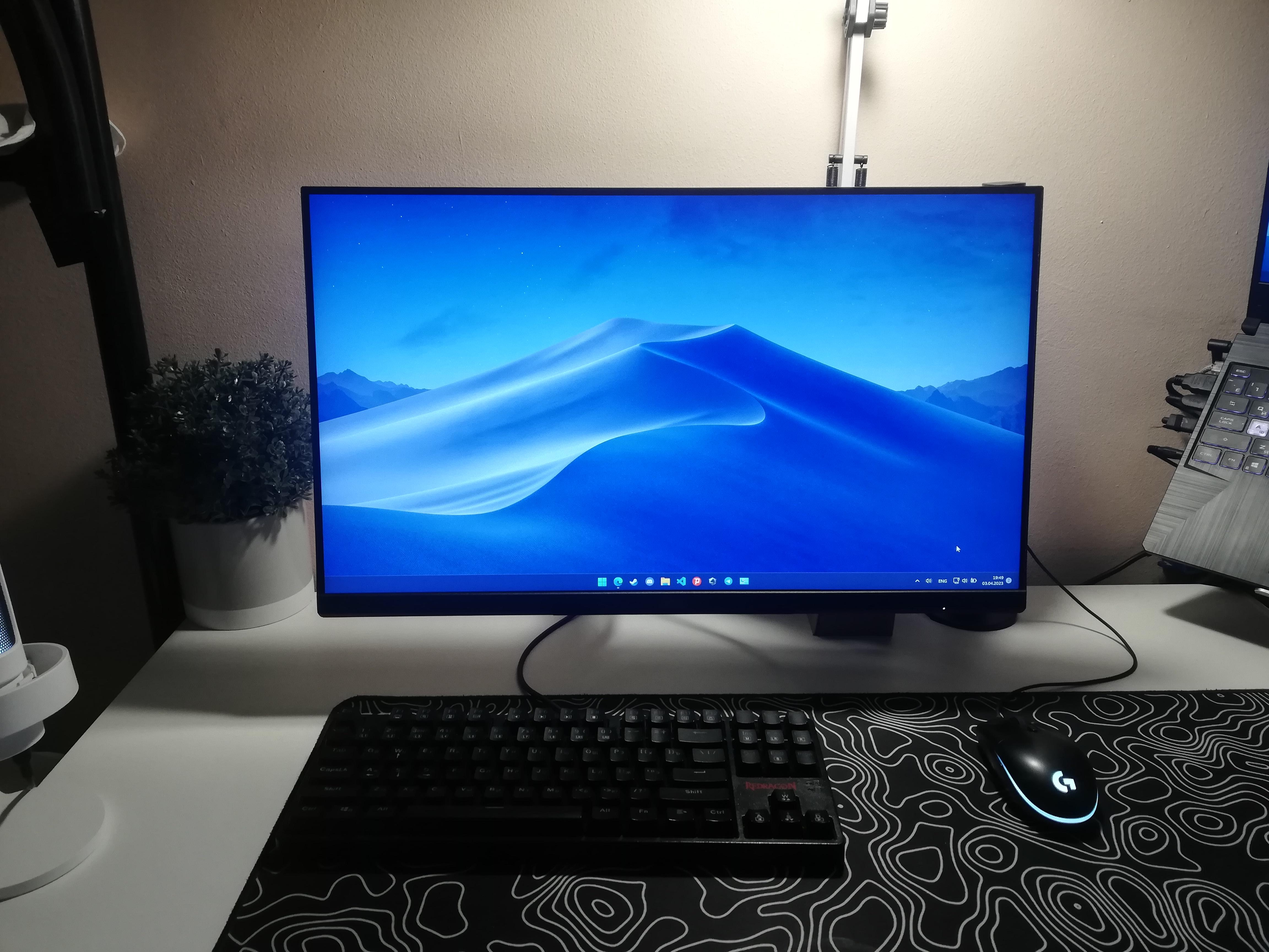monitor: (299, 179, 1045, 624)
